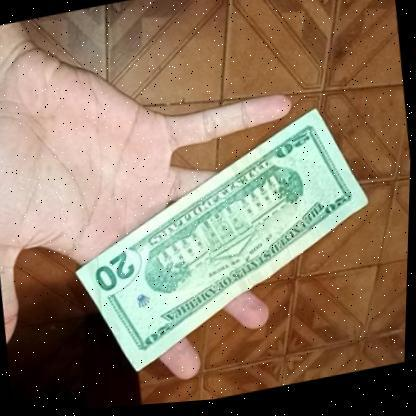dollar_back: (59, 102, 388, 388)
